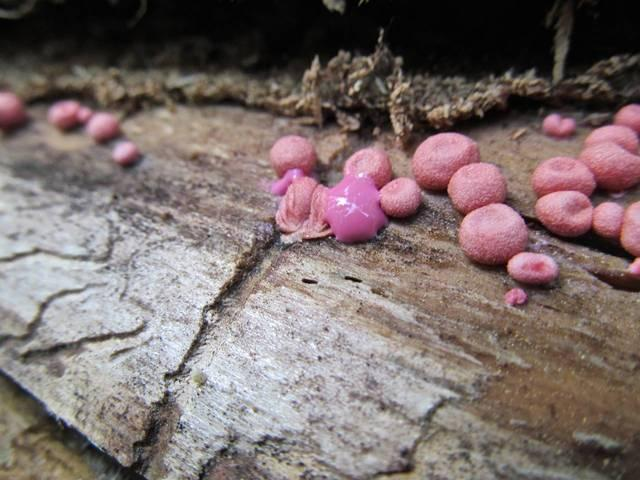poisonous_mushroom: (267, 101, 639, 294), (0, 82, 151, 159), (322, 171, 388, 243), (456, 201, 528, 265), (268, 133, 317, 177)
